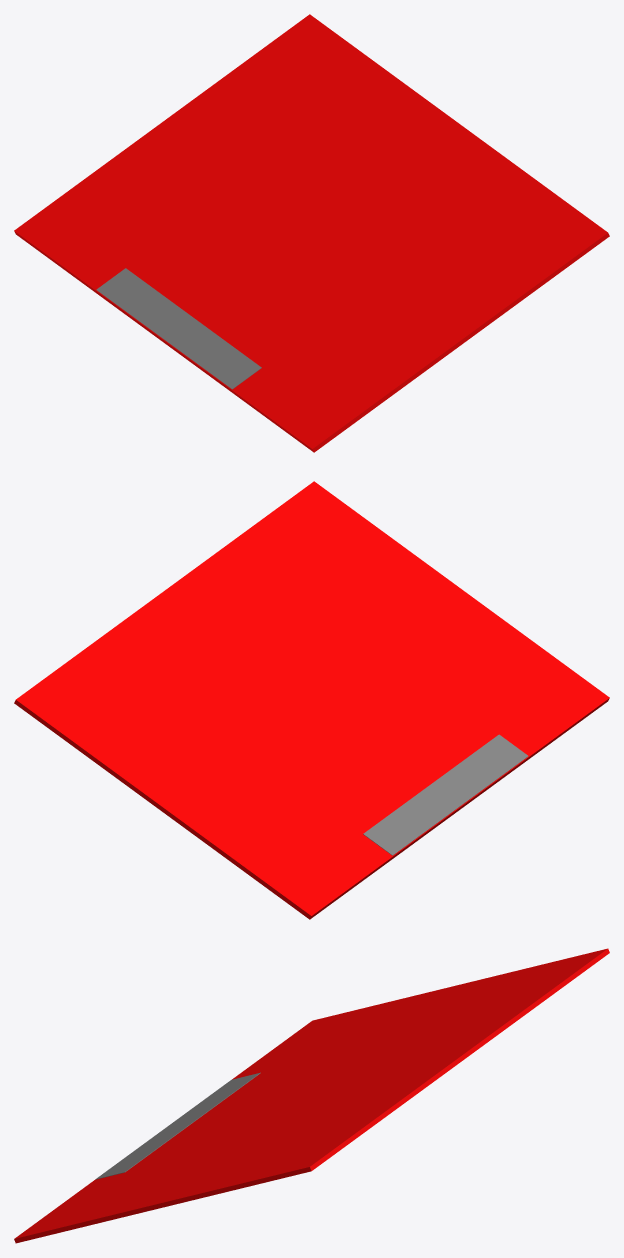
Rendered from OtherPencilCase_Cover1.FBX.
3 views of the same model, one above another, from view 1: azimuth 30°, elevation 25°; view 2: azimuth 150°, elevation 25°; view 3: azimuth 330°, elevation 25° (orthographic).
Visible parts, largest first — view 1: Box001, Box002; view 2: Box001, Box002; view 3: Box001, Box002.
Part boxes in pixels (bbox=[...]): Box001: bbox=[14, 14, 609, 452]; Box002: bbox=[96, 268, 261, 389]; Box001: bbox=[14, 481, 609, 919]; Box002: bbox=[363, 734, 528, 855]; Box001: bbox=[14, 948, 609, 1243]; Box002: bbox=[95, 1072, 260, 1179].
Size of the model in its own units: 91.12 by 43.41 by 158.
